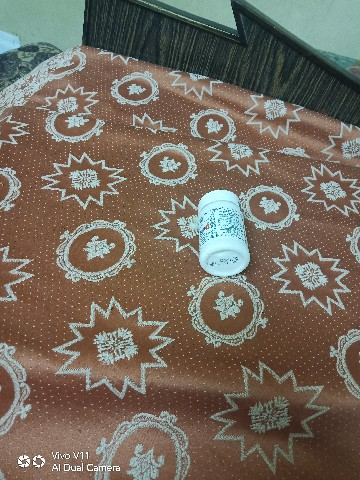lgasafoetidapowder small: (181, 185, 259, 278)
